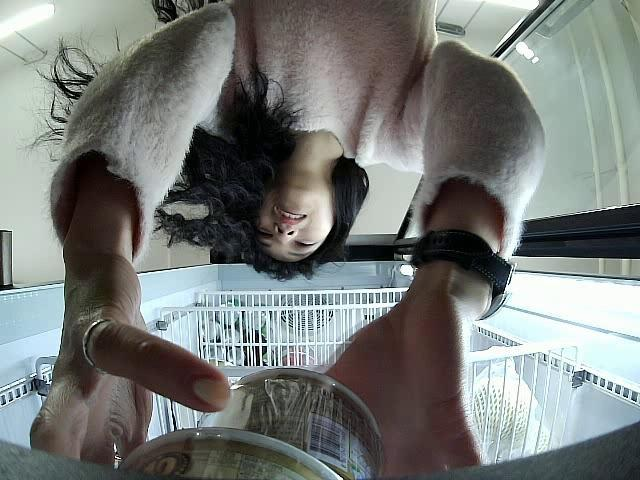04_chapagetti_S: (206, 364, 390, 480), (114, 415, 352, 480)
